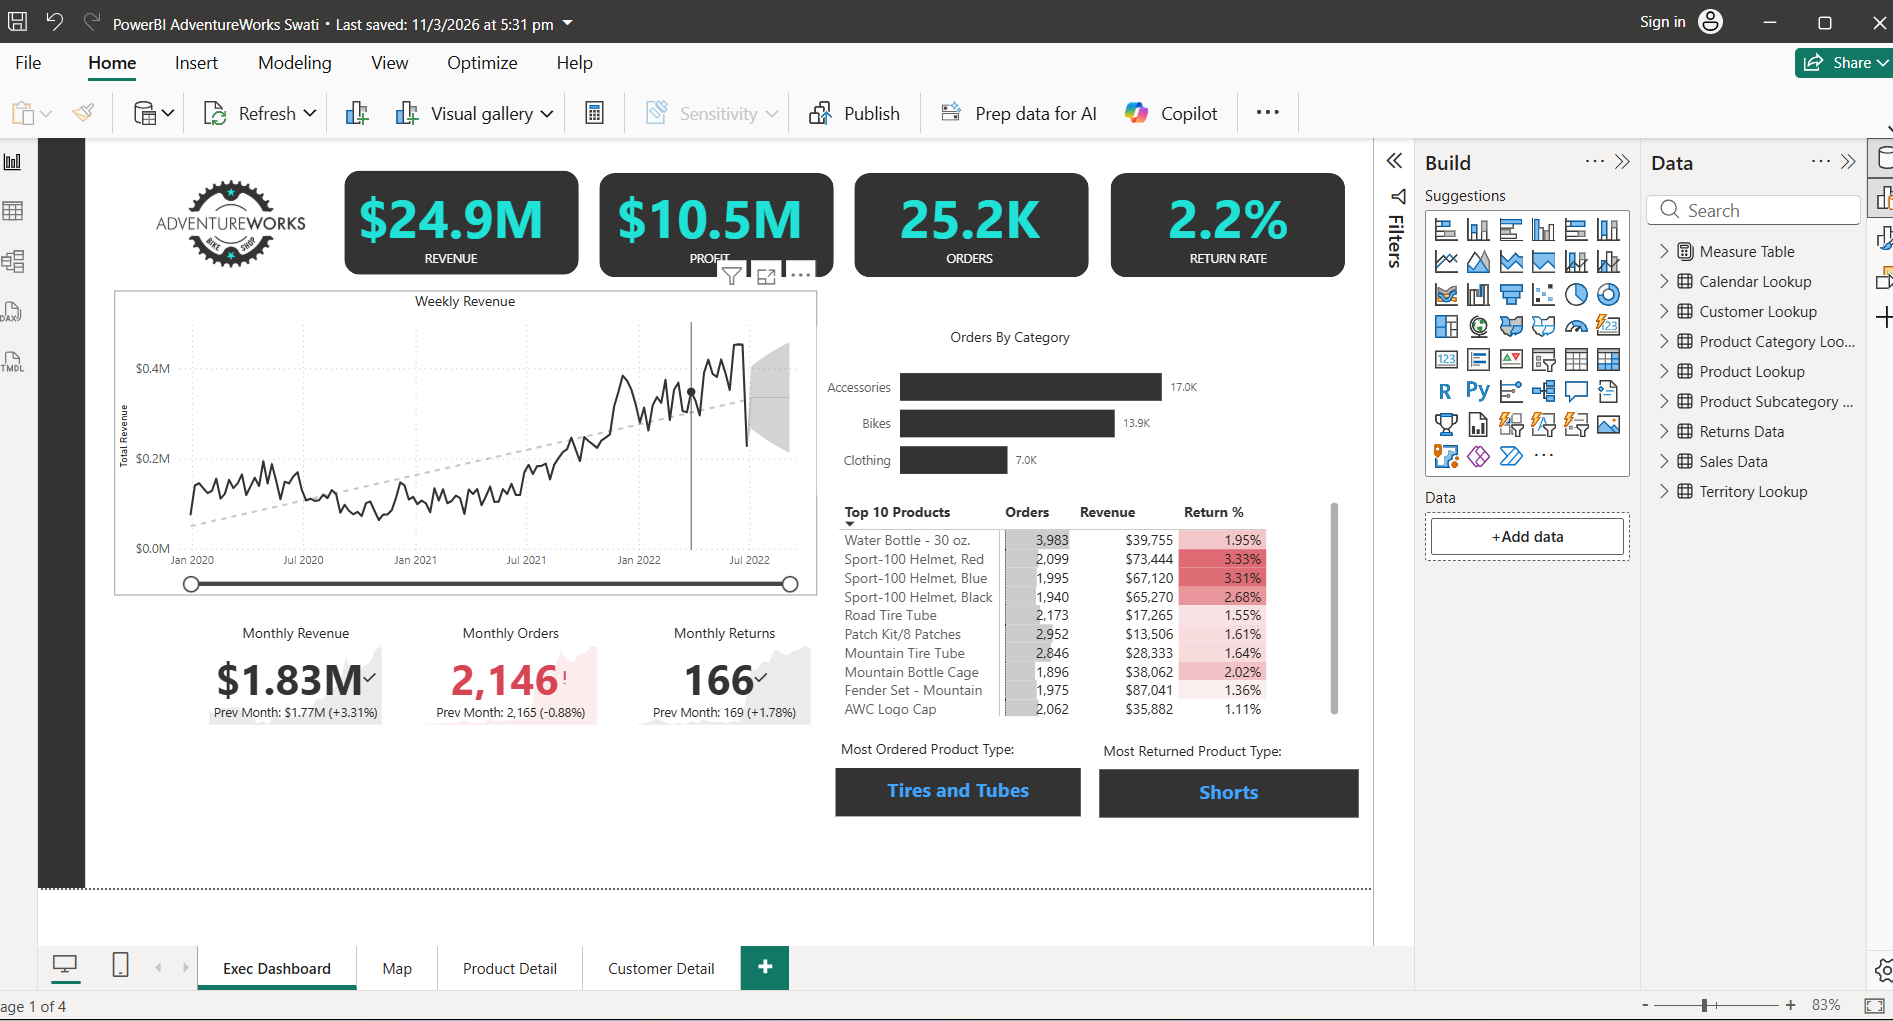

Layout of this report page (visuals, bound fields, positions):
{"tool":"powerbi","page":{"name":"Exec Dashboard","canvas":[1280,720],"ordinal":0},"visuals":[{"type":"shape","box":[294.2,31.7,225,100],"z":0,"group":"g2"},{"type":"image","title":"AW Logo","box":[45.8,33.9,279.7,97.5],"z":0},{"type":"shape","title":"Left Nav Background","box":[0,0,45.3,720],"z":1000},{"type":"shape","box":[538.9,33.8,225,100],"z":1000,"group":"g2"},{"type":"group","id":"g1","title":"KPIs","box":[294.2,5.3,959.2,155.8],"z":2000},{"type":"group","id":"g2","title":"KPI Backgrounds","box":[294.2,31.7,959.2,102.5],"z":2000,"group":"g1"},{"type":"shape","box":[1028.4,34.2,225,100],"z":2000,"group":"g2"},{"type":"card","fields":{"Values":["Measure Table.Total Revenue"]},"box":[301.1,5.3,190.5,155.8],"z":3000,"group":"g3"},{"type":"shape","box":[783.6,34.2,225,100],"z":3000,"group":"g2"},{"type":"lineChart","title":"Weekly Revenue","fields":{"Y":["Measure Table.Total Revenue"],"Category":["Calendar Lookup.Start of Week"]},"box":[73.6,146.4,672.7,291.8],"z":3000},{"type":"card","fields":{"Values":["Measure Table.Return Rate"]},"box":[1046.4,5.3,190.5,155.8],"z":4000,"group":"g3"},{"type":"kpi","title":"Monthly Revenue","fields":{"TrendLine":["Calendar Lookup.Start of Month"],"Indicator":["Measure Table.Total Revenue"],"Goal":["Measure Table.Previous Month Revenue"]},"box":[159.1,465.5,175.5,102.7],"z":4000},{"type":"card","fields":{"Values":["Measure Table.Total Profit"]},"box":[549.5,5.3,190.5,155.8],"z":5000,"group":"g3"},{"type":"kpi","title":"Monthly Orders","fields":{"TrendLine":["Calendar Lookup.Start of Month"],"Indicator":["Measure Table.Total Orders"],"Goal":["Measure Table.Previous Month Orders"]},"box":[365.5,465.5,175.5,102.7],"z":5000},{"type":"card","fields":{"Values":["Measure Table.Total Orders"]},"box":[797.9,5.3,190.5,155.8],"z":6000,"group":"g3"},{"type":"kpi","title":"Monthly Returns","fields":{"TrendLine":["Calendar Lookup.Start of Month"],"Indicator":["Measure Table.Total Returns"],"Goal":["Measure Table.Previous Month Returns"]},"box":[570.9,465.5,175.5,102.7],"z":6000},{"type":"group","id":"g3","title":"KPI Values","box":[301.1,5.3,935.8,155.8],"z":6001,"group":"g1"},{"type":"clusteredBarChart","title":"Orders By Category","fields":{"Category":["Product Category Lookup.CategoryName"],"Y":["Measure Table.Total Orders"]},"box":[746.4,180.9,370.9,161.8],"z":7000},{"type":"pivotTable","fields":{"Rows":["Product Lookup.ProductName"],"Values":["Measure Table.Total Orders","Measure Table.Total Revenue","Measure Table.Return Rate"]},"box":[763.9,343.5,489.1,215.5],"z":8000},{"type":"card","fields":{"Values":["Min(Product Subcategory Lookup.SubcategoryName)"]},"box":[764.2,604.1,235.6,46.2],"z":9000},{"type":"textbox","box":[764.2,571.4,199.5,32.7],"z":10000},{"type":"card","fields":{"Values":["Min(Product Subcategory Lookup.SubcategoryName)"]},"box":[1017.8,605.3,249.1,46.2],"z":11000},{"type":"textbox","box":[1016.7,572.6,236.7,31.6],"z":12000}]}

Visuals, with their boxes on the page's 1280x720 design canvas (x1, y1, x2, y2). These are canvas units, not pixel positions in the 1893x1021 screenshot, which may show the page scaled, cropped or inside an application window:
shape: (x1=294, y1=32, x2=519, y2=132)
"AW Logo" image: (x1=46, y1=34, x2=326, y2=131)
"Left Nav Background" shape: (x1=0, y1=0, x2=45, y2=720)
shape: (x1=539, y1=34, x2=764, y2=134)
"KPIs" group: (x1=294, y1=5, x2=1253, y2=161)
"KPI Backgrounds" group: (x1=294, y1=32, x2=1253, y2=134)
shape: (x1=1028, y1=34, x2=1253, y2=134)
card - Measure Table.Total Revenue: (x1=301, y1=5, x2=492, y2=161)
shape: (x1=784, y1=34, x2=1009, y2=134)
"Weekly Revenue" lineChart: (x1=74, y1=146, x2=746, y2=438)
card - Measure Table.Return Rate: (x1=1046, y1=5, x2=1237, y2=161)
"Monthly Revenue" kpi: (x1=159, y1=466, x2=335, y2=568)
card - Measure Table.Total Profit: (x1=550, y1=5, x2=740, y2=161)
"Monthly Orders" kpi: (x1=366, y1=466, x2=541, y2=568)
card - Measure Table.Total Orders: (x1=798, y1=5, x2=988, y2=161)
"Monthly Returns" kpi: (x1=571, y1=466, x2=746, y2=568)
"KPI Values" group: (x1=301, y1=5, x2=1237, y2=161)
"Orders By Category" clusteredBarChart: (x1=746, y1=181, x2=1117, y2=343)
pivotTable - Product Lookup.ProductName x Measure Table.Total Orders: (x1=764, y1=344, x2=1253, y2=559)
card - Min(Product Subcategory Lookup.SubcategoryName): (x1=764, y1=604, x2=1000, y2=650)
textbox: (x1=764, y1=571, x2=964, y2=604)
card - Min(Product Subcategory Lookup.SubcategoryName): (x1=1018, y1=605, x2=1267, y2=652)
textbox: (x1=1017, y1=573, x2=1253, y2=604)
